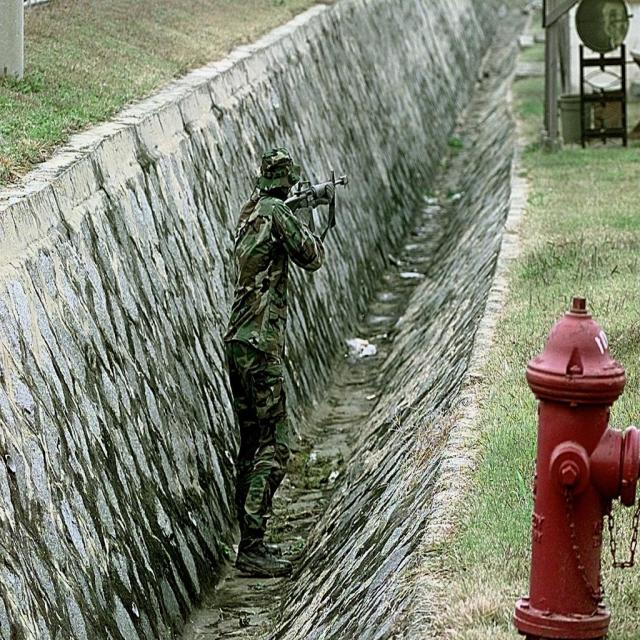fire_hydrant: (514, 298, 640, 639)
